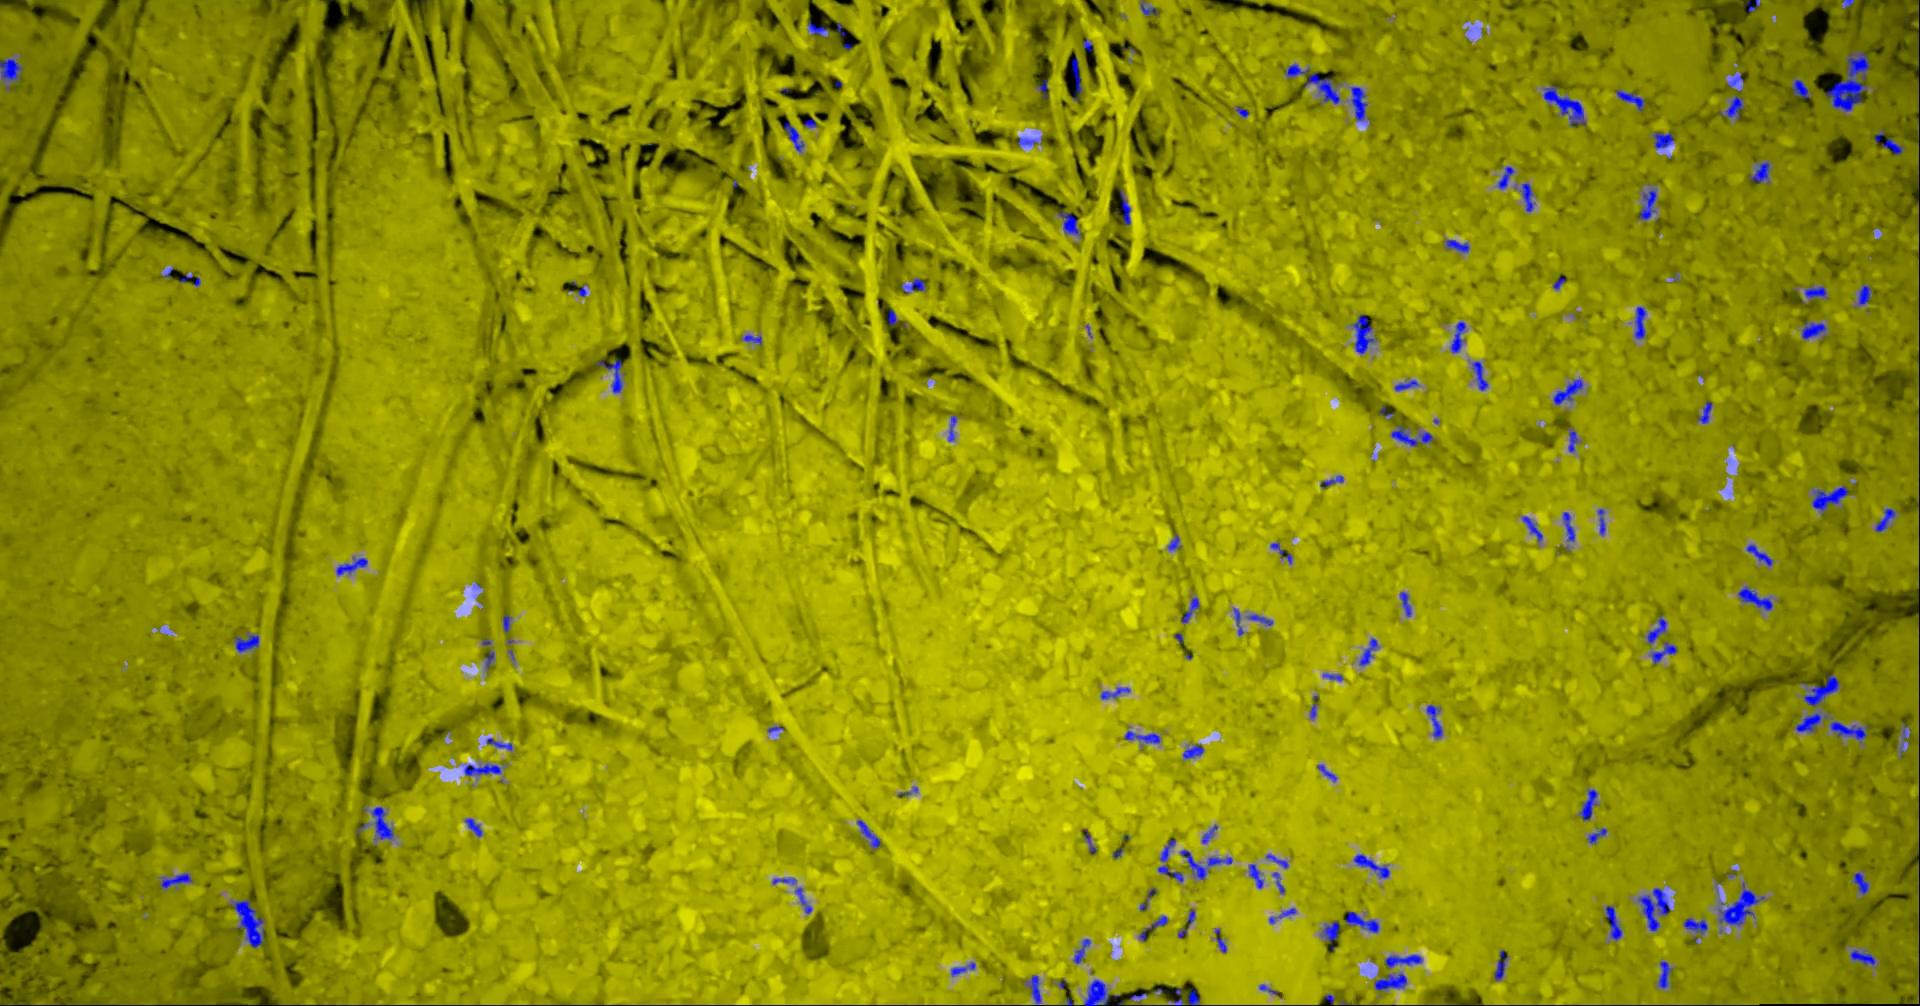ant: (1284, 64, 1338, 103), (1717, 882, 1764, 925), (1543, 85, 1585, 126), (230, 899, 264, 948), (1178, 848, 1232, 879), (1637, 887, 1670, 931), (1157, 838, 1183, 882), (1803, 674, 1839, 706), (1811, 485, 1848, 514), (1351, 315, 1377, 354), (1083, 979, 1123, 1005), (1829, 718, 1867, 742), (596, 358, 622, 392), (1352, 854, 1389, 878), (1737, 586, 1771, 610), (1390, 426, 1432, 445), (1874, 130, 1903, 155), (1553, 379, 1582, 404), (1138, 915, 1167, 940), (1343, 911, 1378, 932), (371, 807, 392, 840), (856, 819, 880, 847), (783, 121, 804, 152), (1615, 89, 1644, 111), (1646, 614, 1666, 644), (1057, 211, 1081, 236), (1746, 542, 1771, 567), (1683, 917, 1707, 942), (1350, 86, 1368, 121), (1796, 713, 1827, 732), (1578, 789, 1597, 821), (1650, 641, 1677, 663), (1357, 636, 1378, 666), (1605, 904, 1622, 940), (1373, 972, 1406, 989), (1321, 920, 1340, 950), (1719, 95, 1743, 118), (1426, 704, 1443, 737), (337, 558, 367, 575), (0, 58, 22, 83), (1638, 189, 1656, 218), (1170, 987, 1199, 1005), (1521, 516, 1542, 541), (1180, 596, 1199, 622), (1384, 954, 1422, 967), (1470, 361, 1487, 390), (794, 887, 811, 913), (1123, 730, 1159, 743), (1450, 321, 1465, 352), (1177, 909, 1194, 937), (1070, 57, 1081, 102), (159, 873, 190, 887), (1493, 949, 1507, 981), (1269, 907, 1295, 923), (1849, 949, 1876, 965), (1749, 161, 1769, 183), (1270, 542, 1291, 563), (1117, 189, 1130, 224), (1876, 508, 1895, 531), (463, 763, 502, 775), (1801, 320, 1825, 338), (234, 634, 258, 652), (1073, 937, 1090, 963), (1026, 976, 1040, 1005), (1519, 183, 1533, 211), (1658, 960, 1672, 988), (1790, 79, 1810, 99), (1562, 511, 1575, 541), (1248, 862, 1263, 888), (1497, 166, 1514, 189), (1634, 306, 1646, 339), (1851, 871, 1868, 894), (1139, 887, 1156, 909), (900, 278, 924, 293), (463, 817, 483, 836), (1652, 131, 1672, 149), (1898, 721, 1909, 757), (1316, 763, 1336, 781), (950, 962, 975, 976), (1100, 687, 1129, 699), (486, 737, 512, 749), (1697, 400, 1710, 423), (1265, 854, 1288, 868), (1587, 827, 1606, 843), (808, 20, 828, 36), (1445, 239, 1469, 251), (1232, 608, 1243, 635), (1246, 614, 1272, 625), (1804, 286, 1826, 300), (1726, 70, 1743, 86), (1399, 591, 1411, 616), (1182, 744, 1203, 758), (1394, 379, 1418, 390), (1319, 475, 1343, 486), (1084, 829, 1096, 854), (179, 273, 201, 286), (1271, 871, 1284, 893), (1201, 824, 1217, 842), (1857, 285, 1870, 304), (1214, 929, 1225, 951), (1035, 77, 1048, 98), (1140, 3, 1158, 15), (947, 415, 956, 441), (1567, 431, 1577, 452), (1167, 533, 1180, 550), (1309, 695, 1318, 718), (1597, 508, 1605, 533), (1017, 136, 1037, 145), (743, 334, 761, 344), (502, 614, 510, 633), (1746, 0, 1760, 11), (888, 307, 897, 325)
